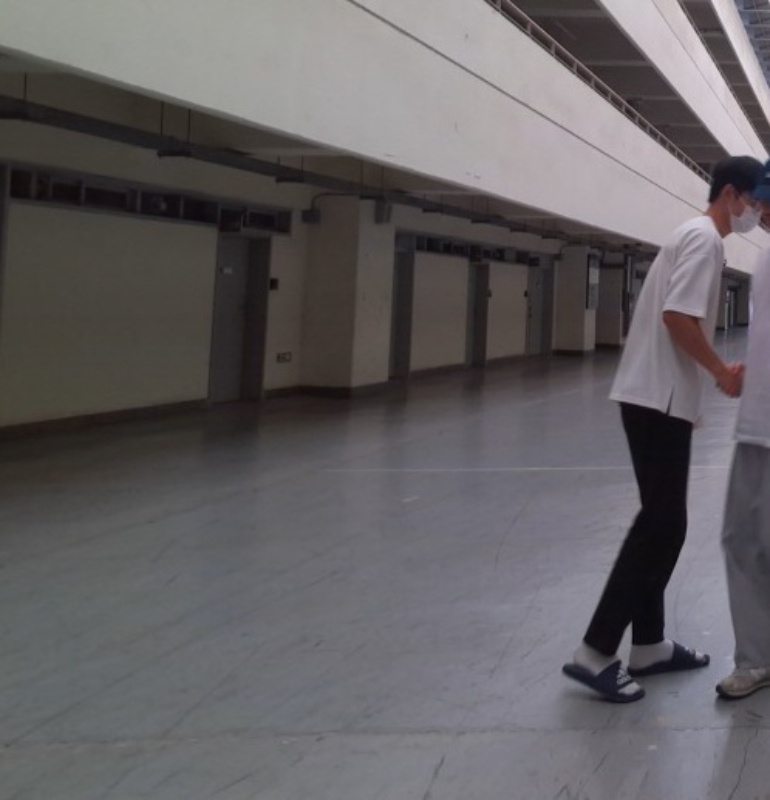person: (559, 153, 767, 702)
